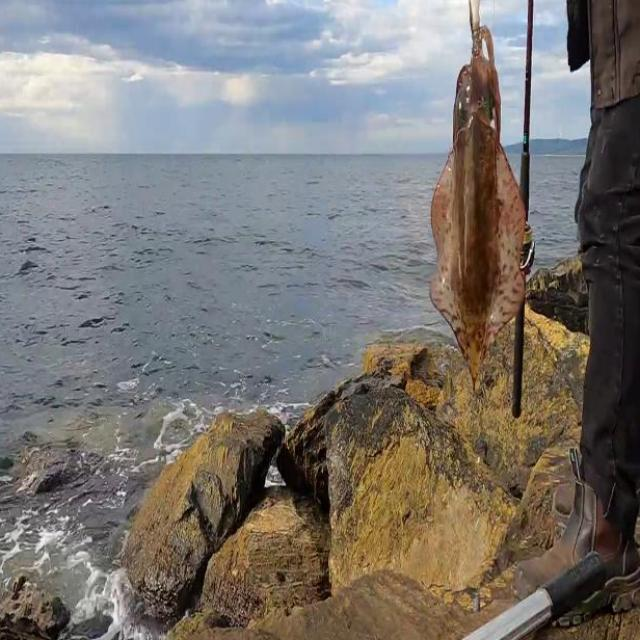SQUID: (399, 0, 547, 396)
